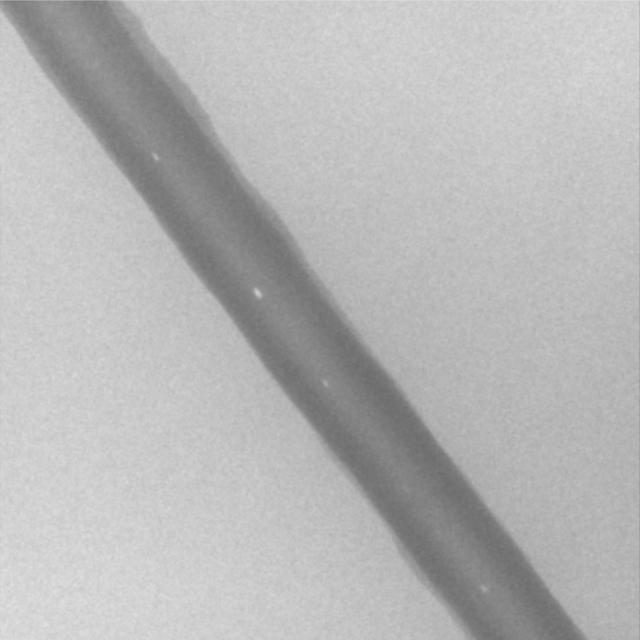air hole: (477, 582, 488, 595), (252, 286, 262, 299), (149, 151, 160, 162), (320, 376, 329, 388)
